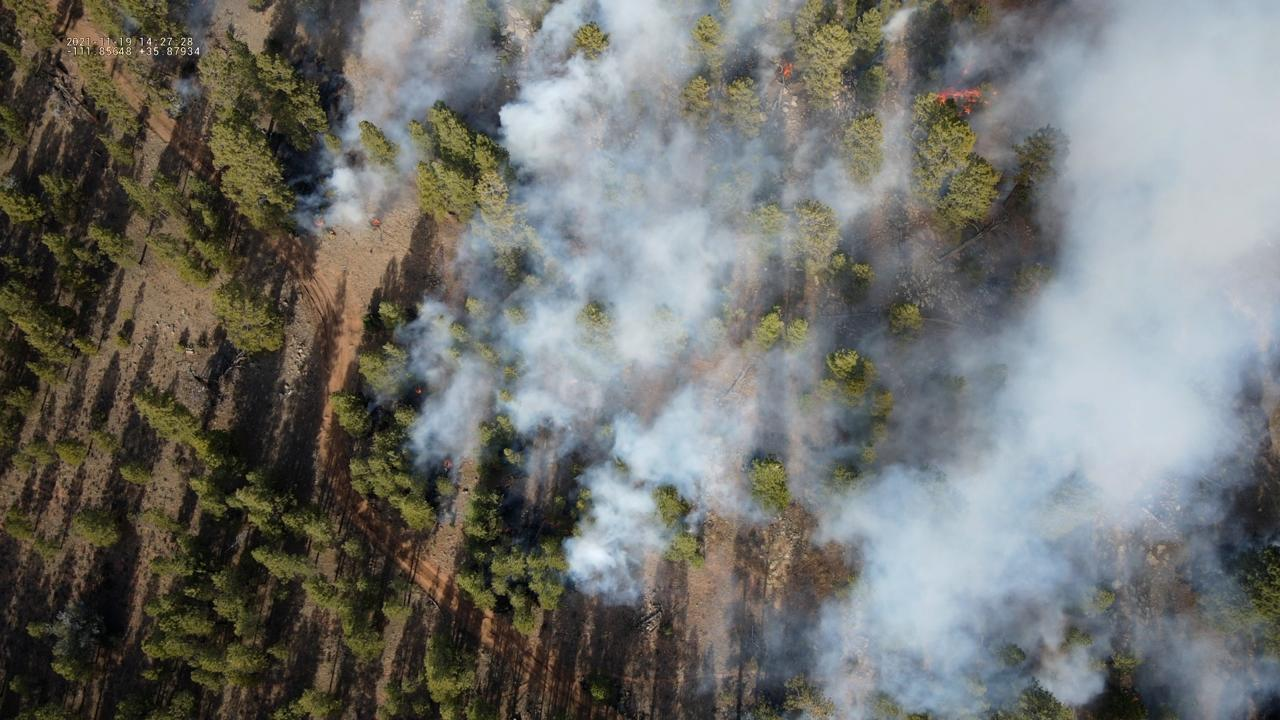fire: (934, 84, 982, 118), (781, 62, 793, 78), (442, 459, 453, 470), (960, 66, 972, 76), (371, 218, 381, 226), (314, 219, 325, 226), (414, 388, 423, 395), (992, 91, 998, 96)
smoke: (270, 0, 1280, 720), (166, 0, 218, 62), (170, 75, 205, 111), (122, 17, 142, 37)
